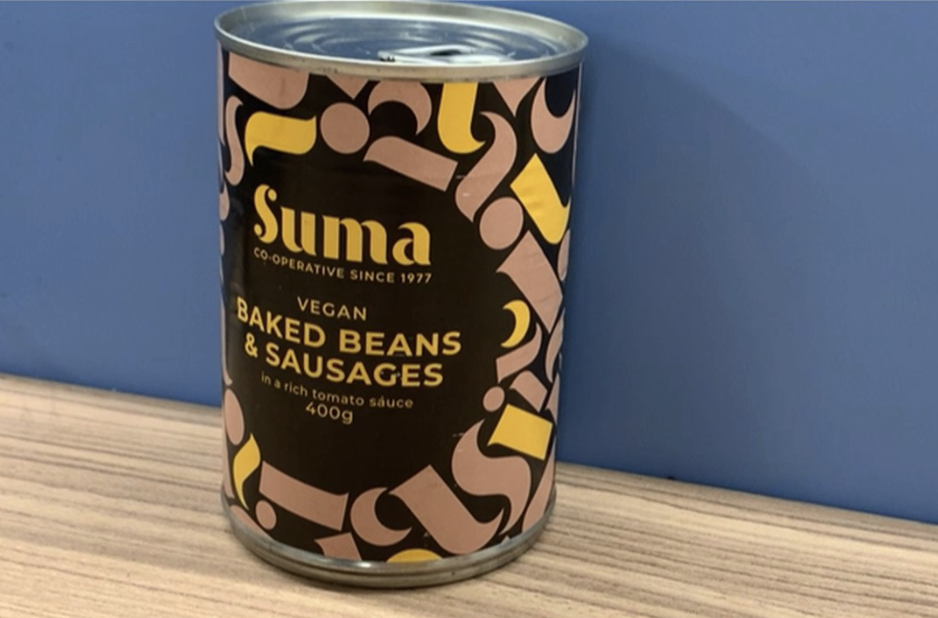Baked beans_400-499g: (235, 112, 512, 543)
